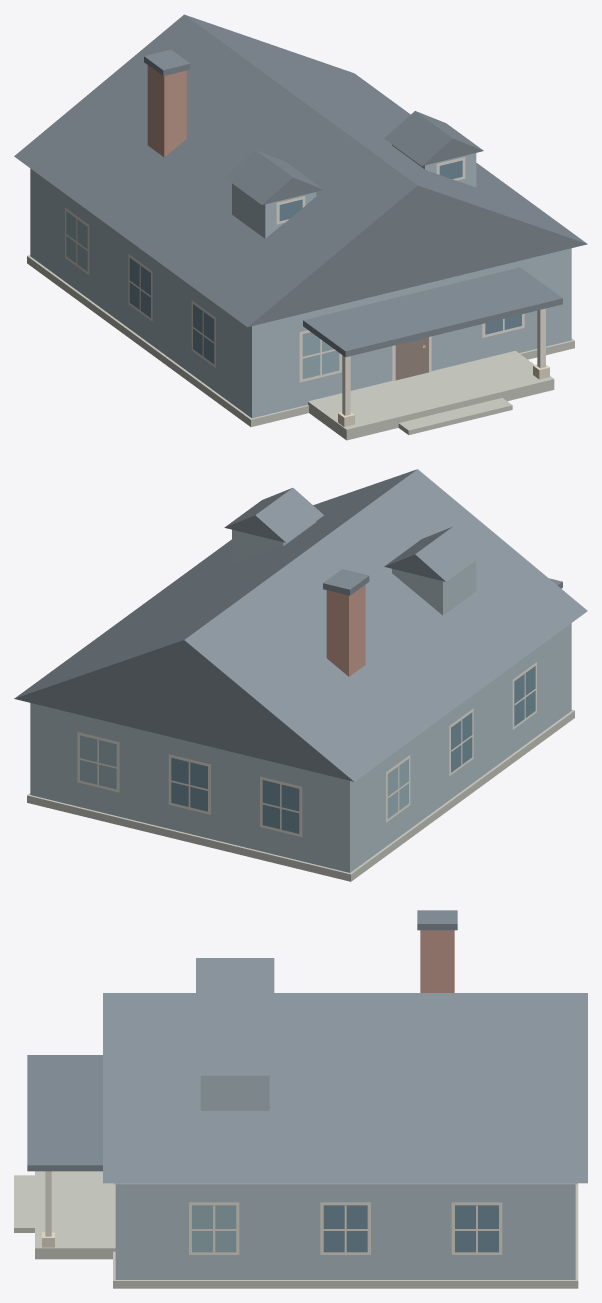
The model's file is house-dormer-blue.glb.
The picture shows the model from 3 angles, top to bottom: view 1: azimuth 30°, elevation 25°; view 2: azimuth 150°, elevation 25°; view 3: azimuth 270°, elevation 25°; orthographic projection. The views are drawn at different scales.
Parts seen in each view (by area): view 1: house-dormer-blue; view 2: house-dormer-blue; view 3: house-dormer-blue.
Part boxes in pixels (left/top/right/bottom): house-dormer-blue: left=14, top=14, right=587, bottom=440; house-dormer-blue: left=14, top=469, right=587, bottom=881; house-dormer-blue: left=14, top=910, right=587, bottom=1288.
Bounding box in the file's own units: 10.65 × 7.03 × 14.98.
